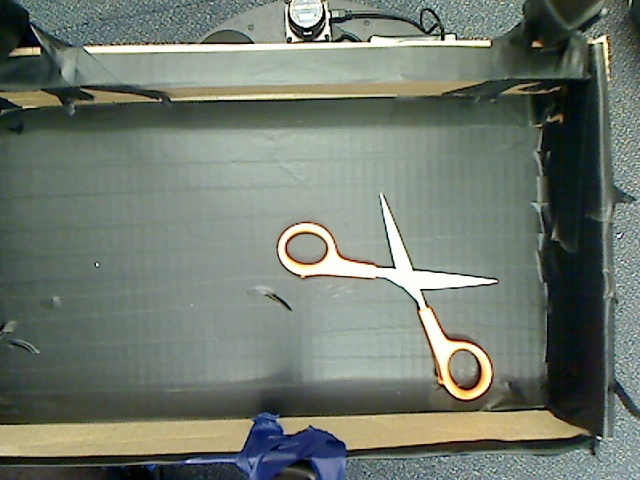scissors: (261, 174, 518, 410)
